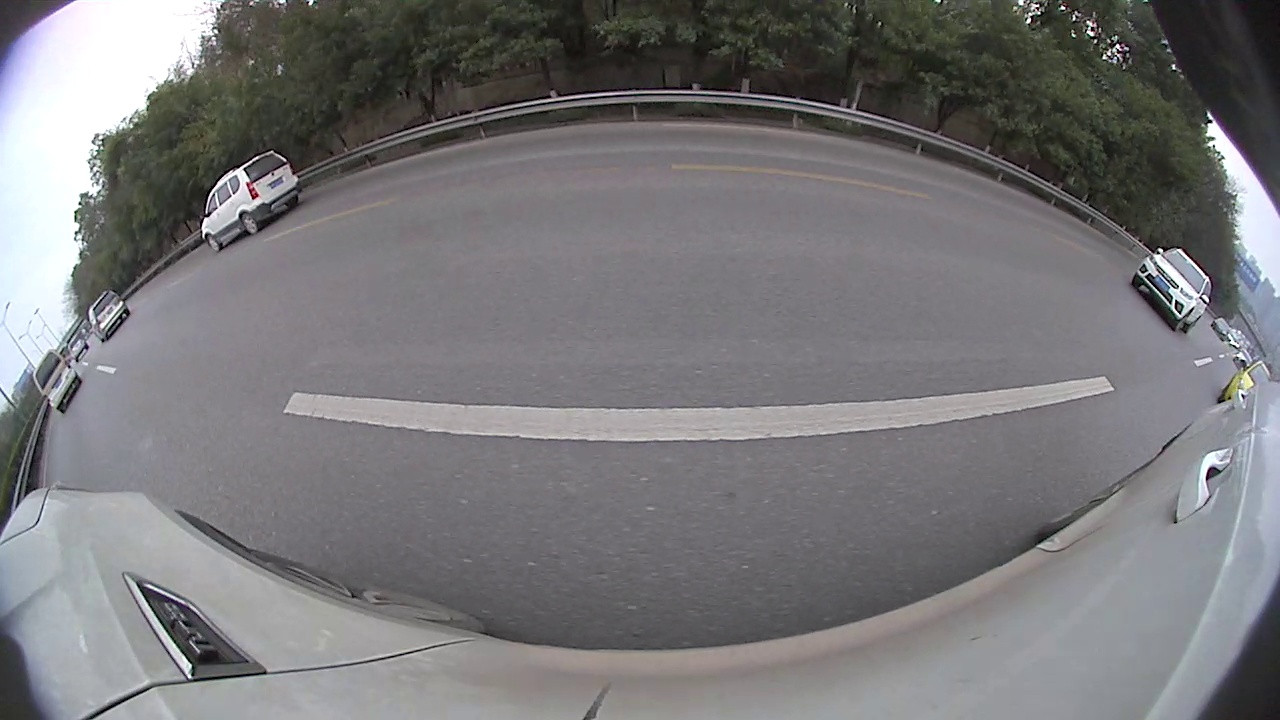car: (199, 148, 301, 253), (1131, 246, 1214, 335), (31, 349, 84, 415), (1216, 359, 1273, 411), (87, 289, 131, 343), (67, 334, 89, 363), (1210, 316, 1231, 341)
front: (1174, 311, 1191, 333), (207, 234, 220, 252)
rear: (241, 213, 257, 236)
